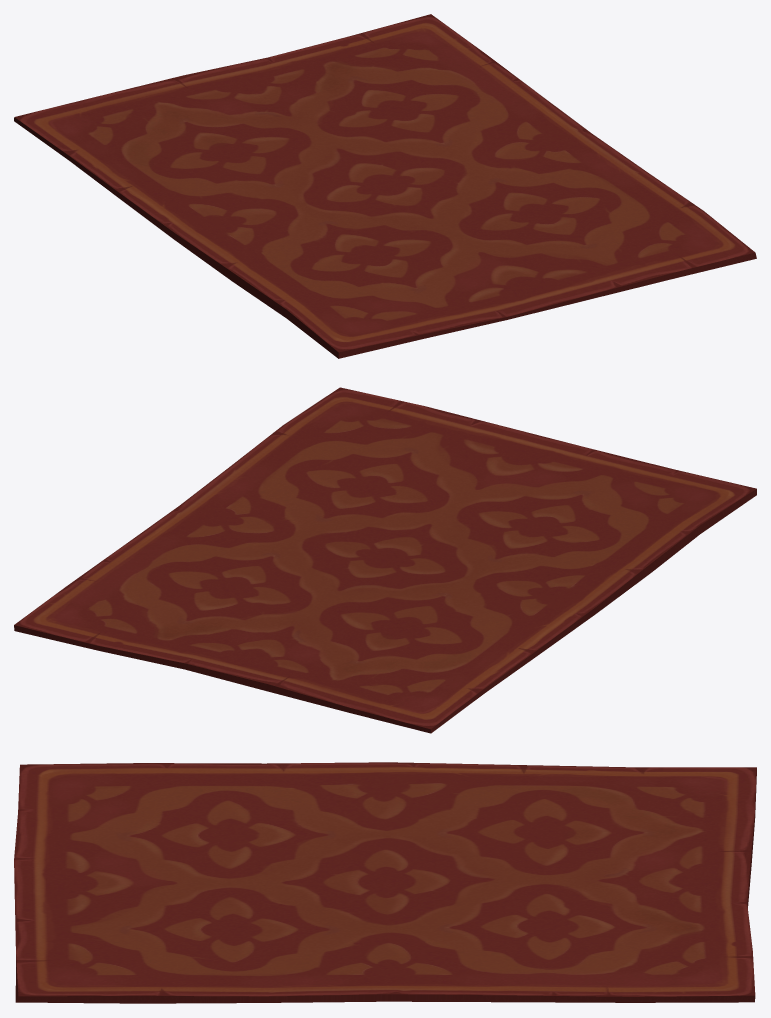
File: Carpet_1_1.FBX
3 renders of one model, top to bottom at view 1: azimuth 30°, elevation 25°; view 2: azimuth 150°, elevation 25°; view 3: azimuth 270°, elevation 25°, orthographic. The views are drawn at different scales.
Visible parts, largest first — view 1: Carpet_1_1; view 2: Carpet_1_1; view 3: Carpet_1_1.
Part boxes in pixels (x1,y1,x2,y2): Carpet_1_1: [14, 14, 756, 358]; Carpet_1_1: [14, 387, 756, 733]; Carpet_1_1: [14, 762, 756, 1003].
Size of the model in its own units: 1729 by 35.06 by 2332.
